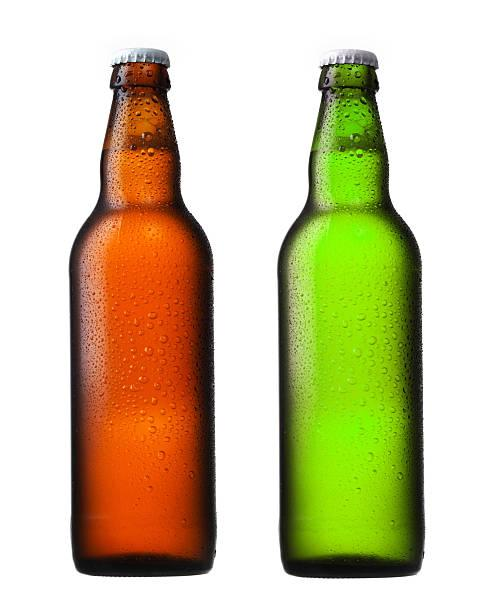glass: (246, 25, 462, 580), (53, 15, 242, 567)
